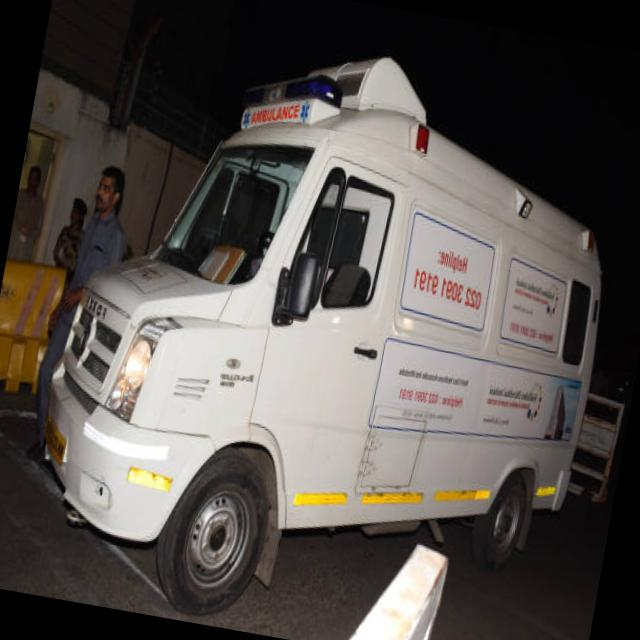ambulance: (365, 186, 612, 470), (235, 82, 318, 156), (404, 111, 440, 170)
